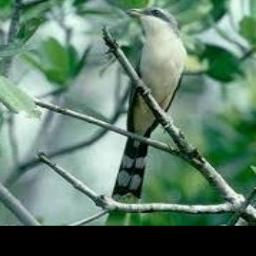Cuckoo: (110, 6, 186, 206)
